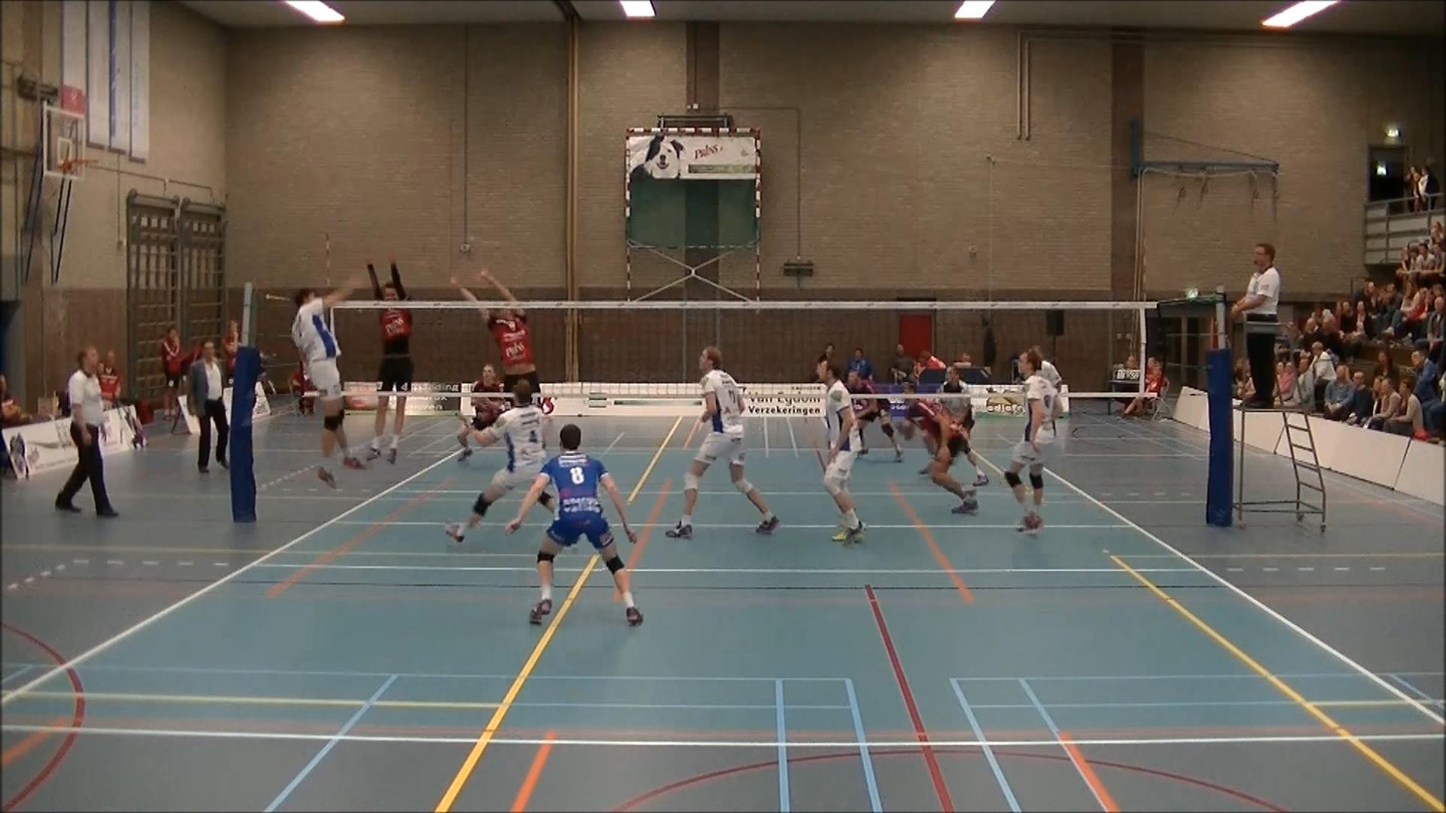attacco: (256, 260, 385, 491)
muro: (446, 256, 548, 416), (359, 243, 416, 475)
